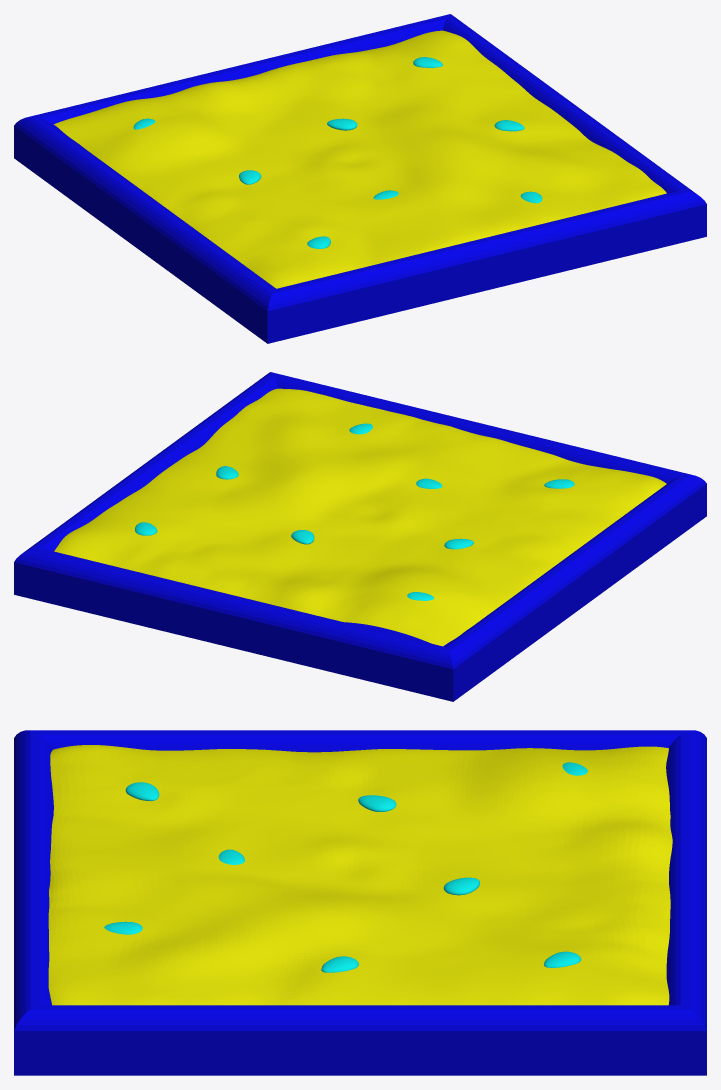
File: Stage_1.fbx
3 renders of one model, top to bottom at view 1: azimuth 30°, elevation 25°; view 2: azimuth 150°, elevation 25°; view 3: azimuth 270°, elevation 25°, orthographic. The views are drawn at different scales.
Parts seen in each view (by area): view 1: Dirt, Bed; view 2: Dirt, Bed; view 3: Dirt, Bed.
Boxes of the visible parts, left/top/right/bottom form: Dirt: left=54, top=30, right=666, bottom=288; Bed: left=14, top=14, right=706, bottom=343; Dirt: left=54, top=388, right=666, bottom=646; Bed: left=14, top=372, right=706, bottom=701; Dirt: left=48, top=745, right=672, bottom=1005; Bed: left=14, top=730, right=706, bottom=1075.
Bounding box in the file's own units: 4.24 × 0.4764 × 4.24.
